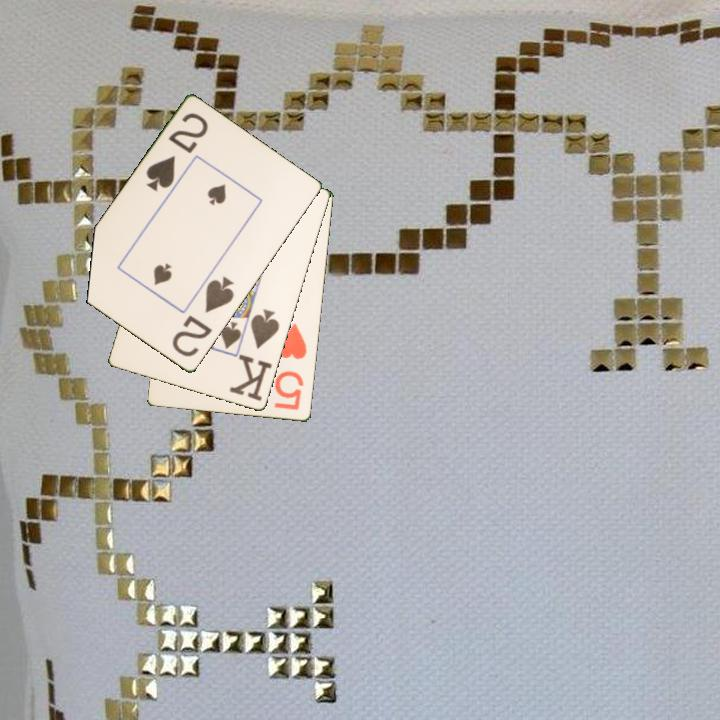2s: (168, 273, 237, 360), (142, 109, 211, 195)
5h: (271, 320, 310, 413)
Ks: (227, 306, 283, 404)
